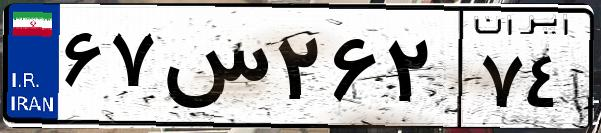2: (270, 28, 330, 110), (385, 28, 445, 110)
4: (525, 38, 570, 115)
6: (330, 28, 385, 110), (57, 26, 110, 100)
7: (475, 38, 525, 113), (110, 28, 158, 98)
س: (158, 20, 270, 120)
